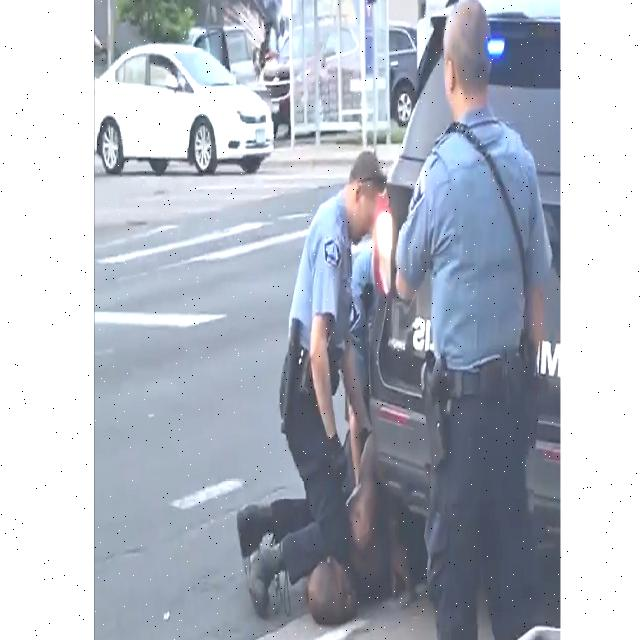police: (390, 0, 560, 640), (234, 134, 382, 622)
